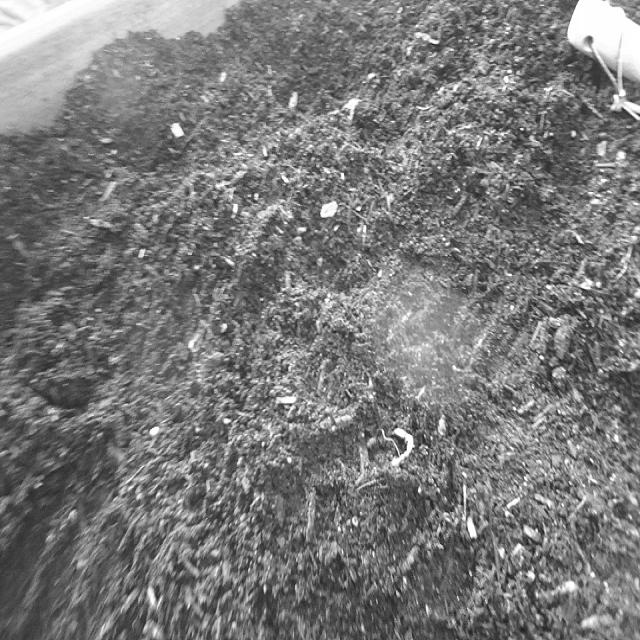Unhealthy: (388, 422, 417, 471)
